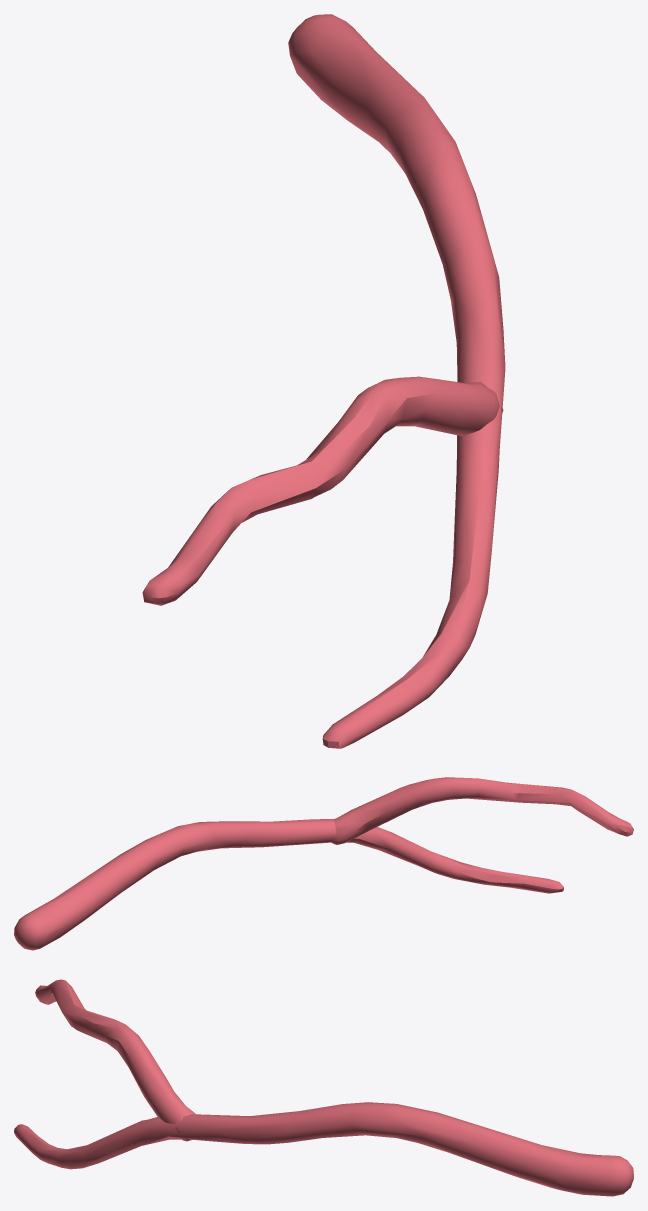
File: fma3868_cx64.glb
The picture shows the model from 3 angles, top to bottom: view 1: azimuth 30°, elevation 25°; view 2: azimuth 150°, elevation 25°; view 3: azimuth 270°, elevation 25°; orthographic projection. The views are drawn at different scales.
Visible parts, largest first — view 1: FMA3868_CX64; view 2: FMA3868_CX64; view 3: FMA3868_CX64.
Boxes of the visible parts, x1,y1,x2,y2 form: FMA3868_CX64: (142, 14, 505, 748); FMA3868_CX64: (14, 777, 633, 950); FMA3868_CX64: (14, 979, 633, 1196).
Bounding box in the file's own units: 0.0215 × 0.00757 × 0.0287.
